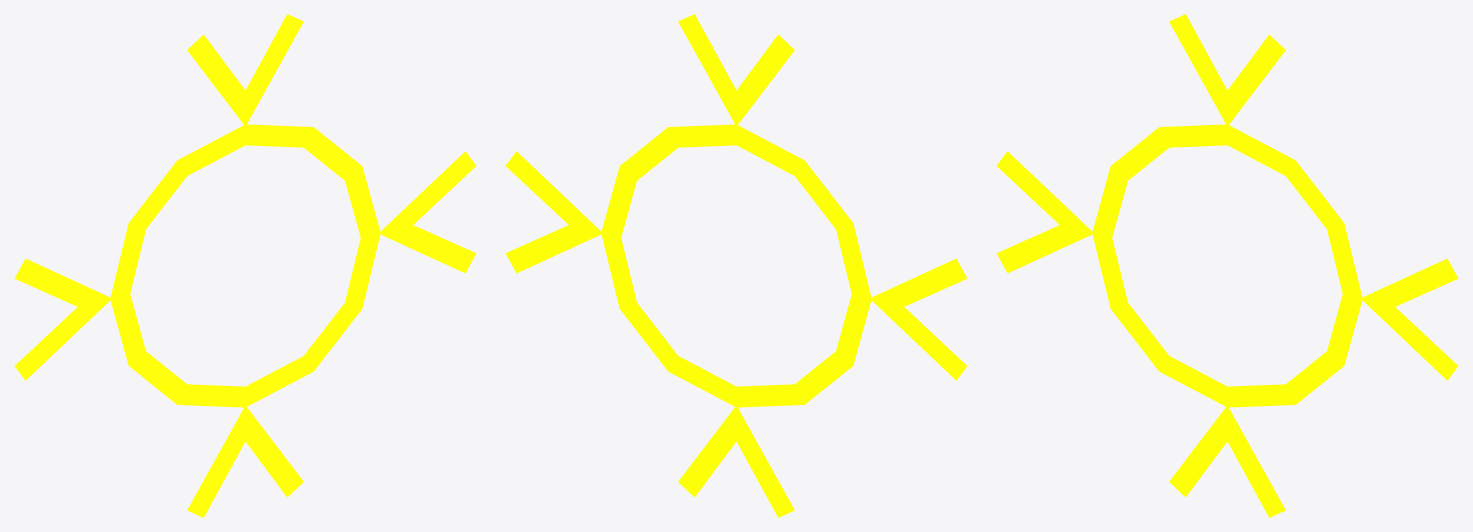
Rendered from TargetMark.fbx.
3 renders of one model, left to right at view 1: azimuth 30°, elevation 25°; view 2: azimuth 150°, elevation 25°; view 3: azimuth 330°, elevation 25°, orthographic.
Visible parts, largest first — view 1: TargetMark; view 2: TargetMark; view 3: TargetMark.
Boxes of the visible parts, x1=… form: TargetMark: x1=14, y1=14, x2=476, y2=517; TargetMark: x1=505, y1=14, x2=967, y2=517; TargetMark: x1=996, y1=14, x2=1458, y2=517.
Size of the model in its own units: 0.0922 by 0.0922 by 3.6e-07.
